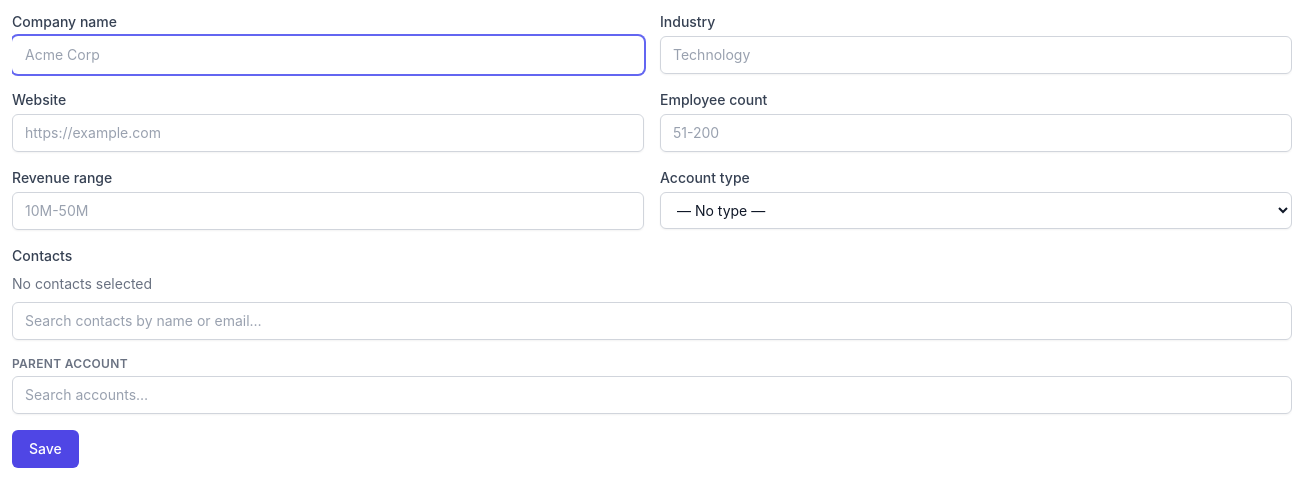
Test case: AccountForm › parent account type-ahead › shows autocomplete suggestions when a query of 2+ chars is typed
Type "Ac" into the field with test id "account-parent-search" at point(652, 395), box [12,376,1292,414]
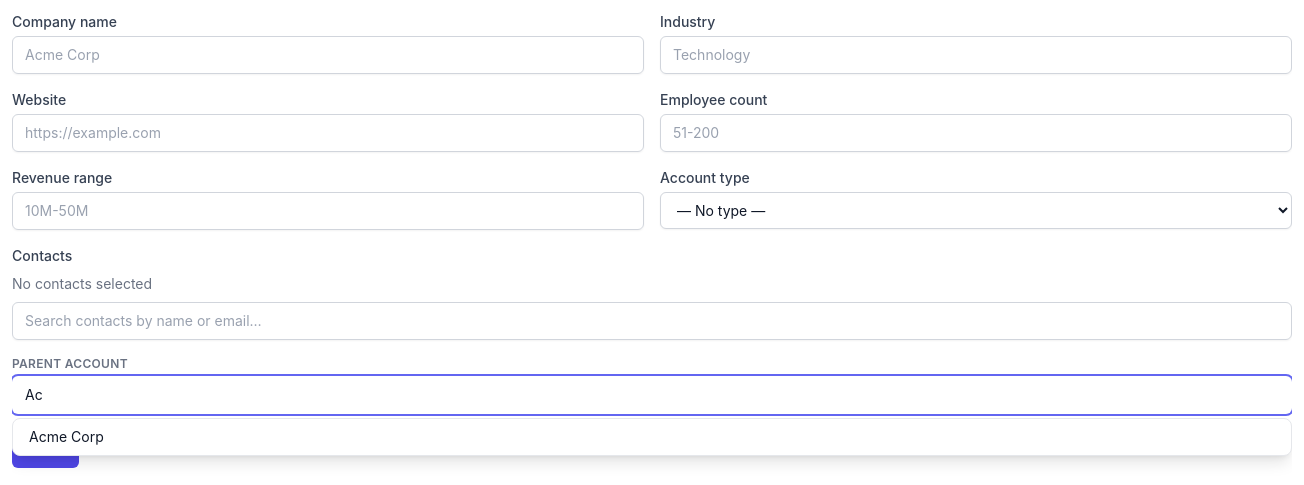
expect the list with test id "account-parent-suggestions" is shown: met, box [12,418,1292,456]
